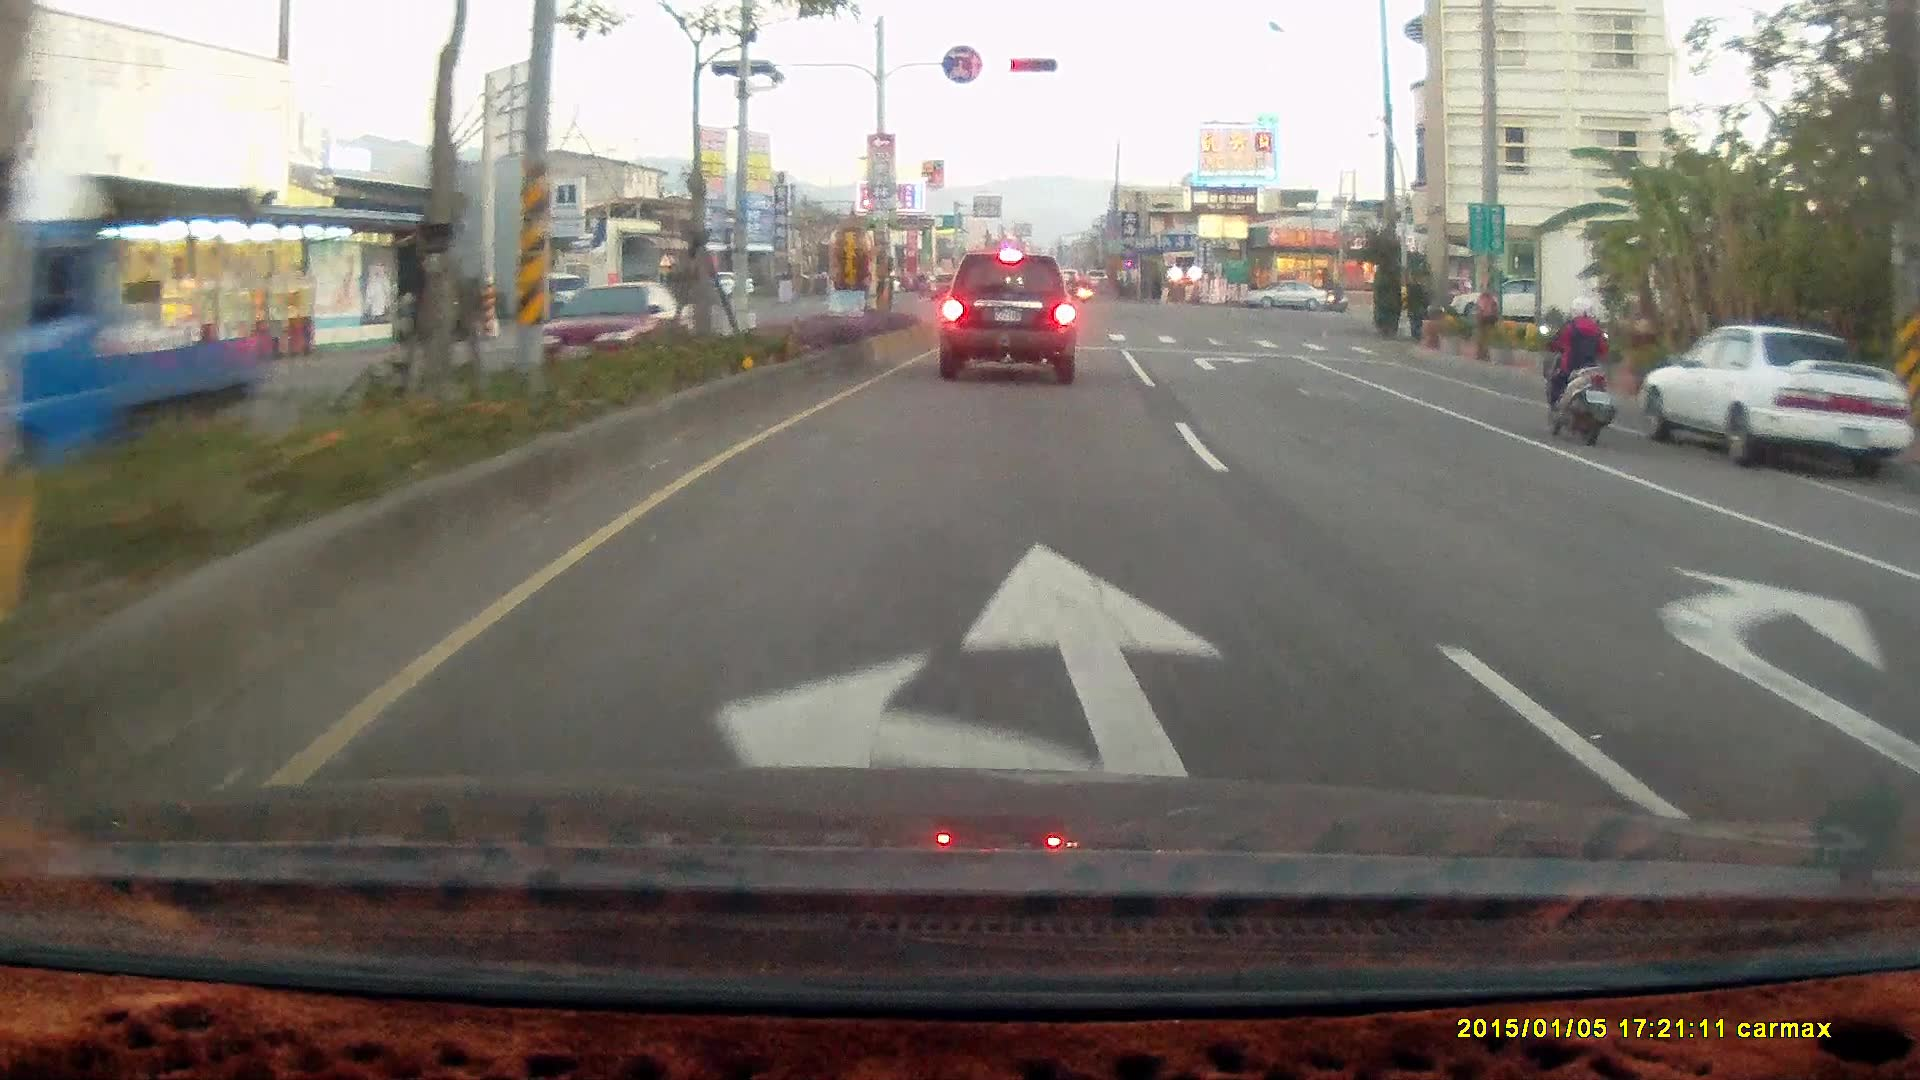rider: (1536, 293, 1618, 445), (1320, 273, 1348, 312)
vehicle: (1, 137, 272, 494), (1633, 321, 1905, 478), (1634, 325, 1909, 476), (937, 250, 1078, 384), (1896, 493, 1920, 836), (1883, 528, 1920, 690), (1449, 273, 1565, 325), (1237, 279, 1332, 315), (1238, 278, 1328, 312)
